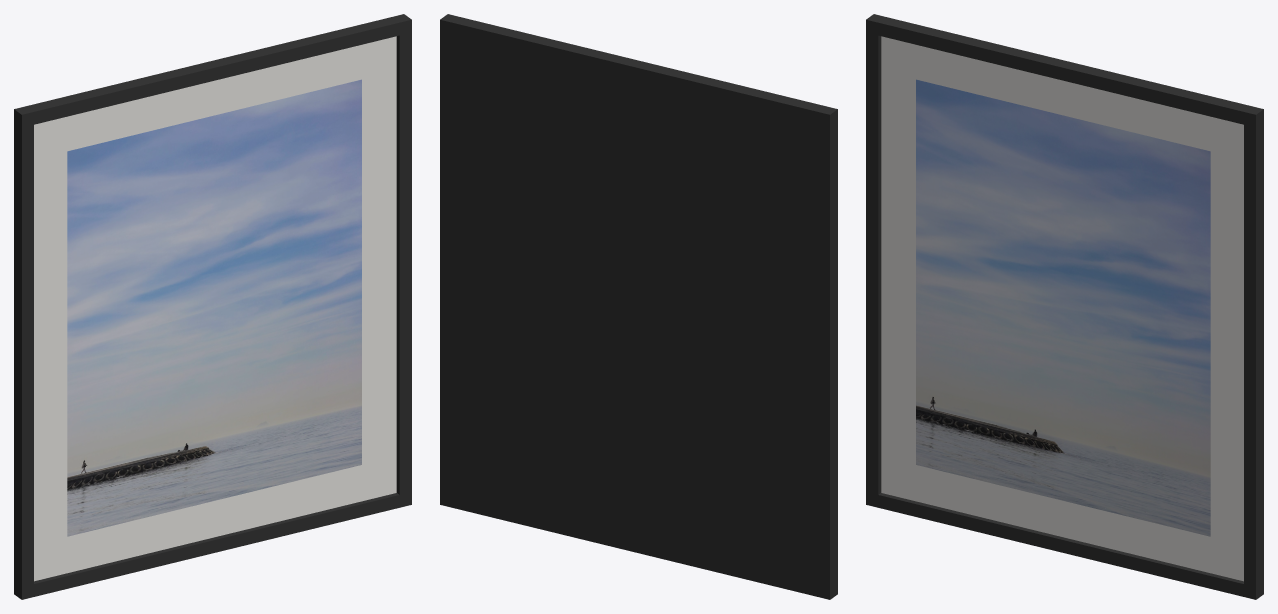
The model's file is piren-60.gltf.
3 renders of one model, left to right at view 1: azimuth 30°, elevation 25°; view 2: azimuth 150°, elevation 25°; view 3: azimuth 330°, elevation 25°, orthographic.
Visible parts, largest first — view 1: tavla; view 2: tavla; view 3: tavla.
Part boxes in pixels (x1,y1,x2,y2): tavla: (14,14,411,599); tavla: (440,14,837,599); tavla: (866,14,1263,599).
Size of the model in its own units: 0.6356 by 0.7553 by 0.022.
3 materials, 1 textured.
